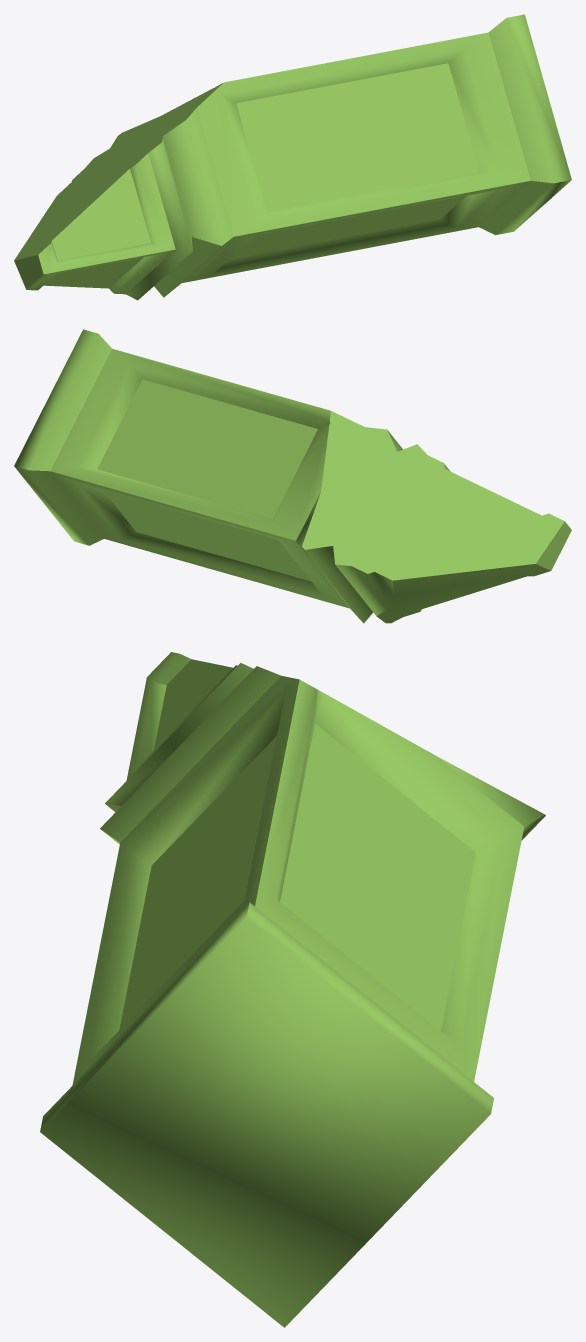
The model's file is BrokenBlock5.obj.
3 renders of one model, top to bottom at view 1: azimuth 30°, elevation 25°; view 2: azimuth 150°, elevation 25°; view 3: azimuth 270°, elevation 25°, orthographic. The views are drawn at different scales.
Visible parts, largest first — view 1: BrokenBlock5; view 2: BrokenBlock5; view 3: BrokenBlock5.
Boxes of the visible parts, x1,y1,x2,y2 form: BrokenBlock5: [14, 14, 571, 300]; BrokenBlock5: [14, 329, 571, 623]; BrokenBlock5: [40, 652, 545, 1327].
Bounding box in the file's own units: 15.37 × 6.39 × 7.14.
